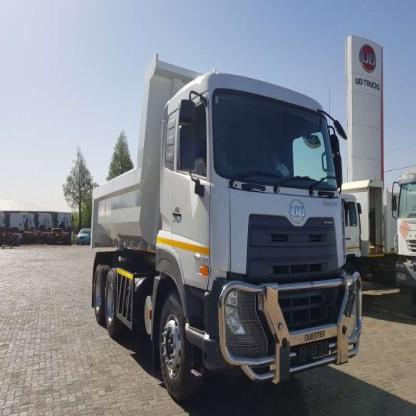dump_truck: (83, 47, 362, 406)
